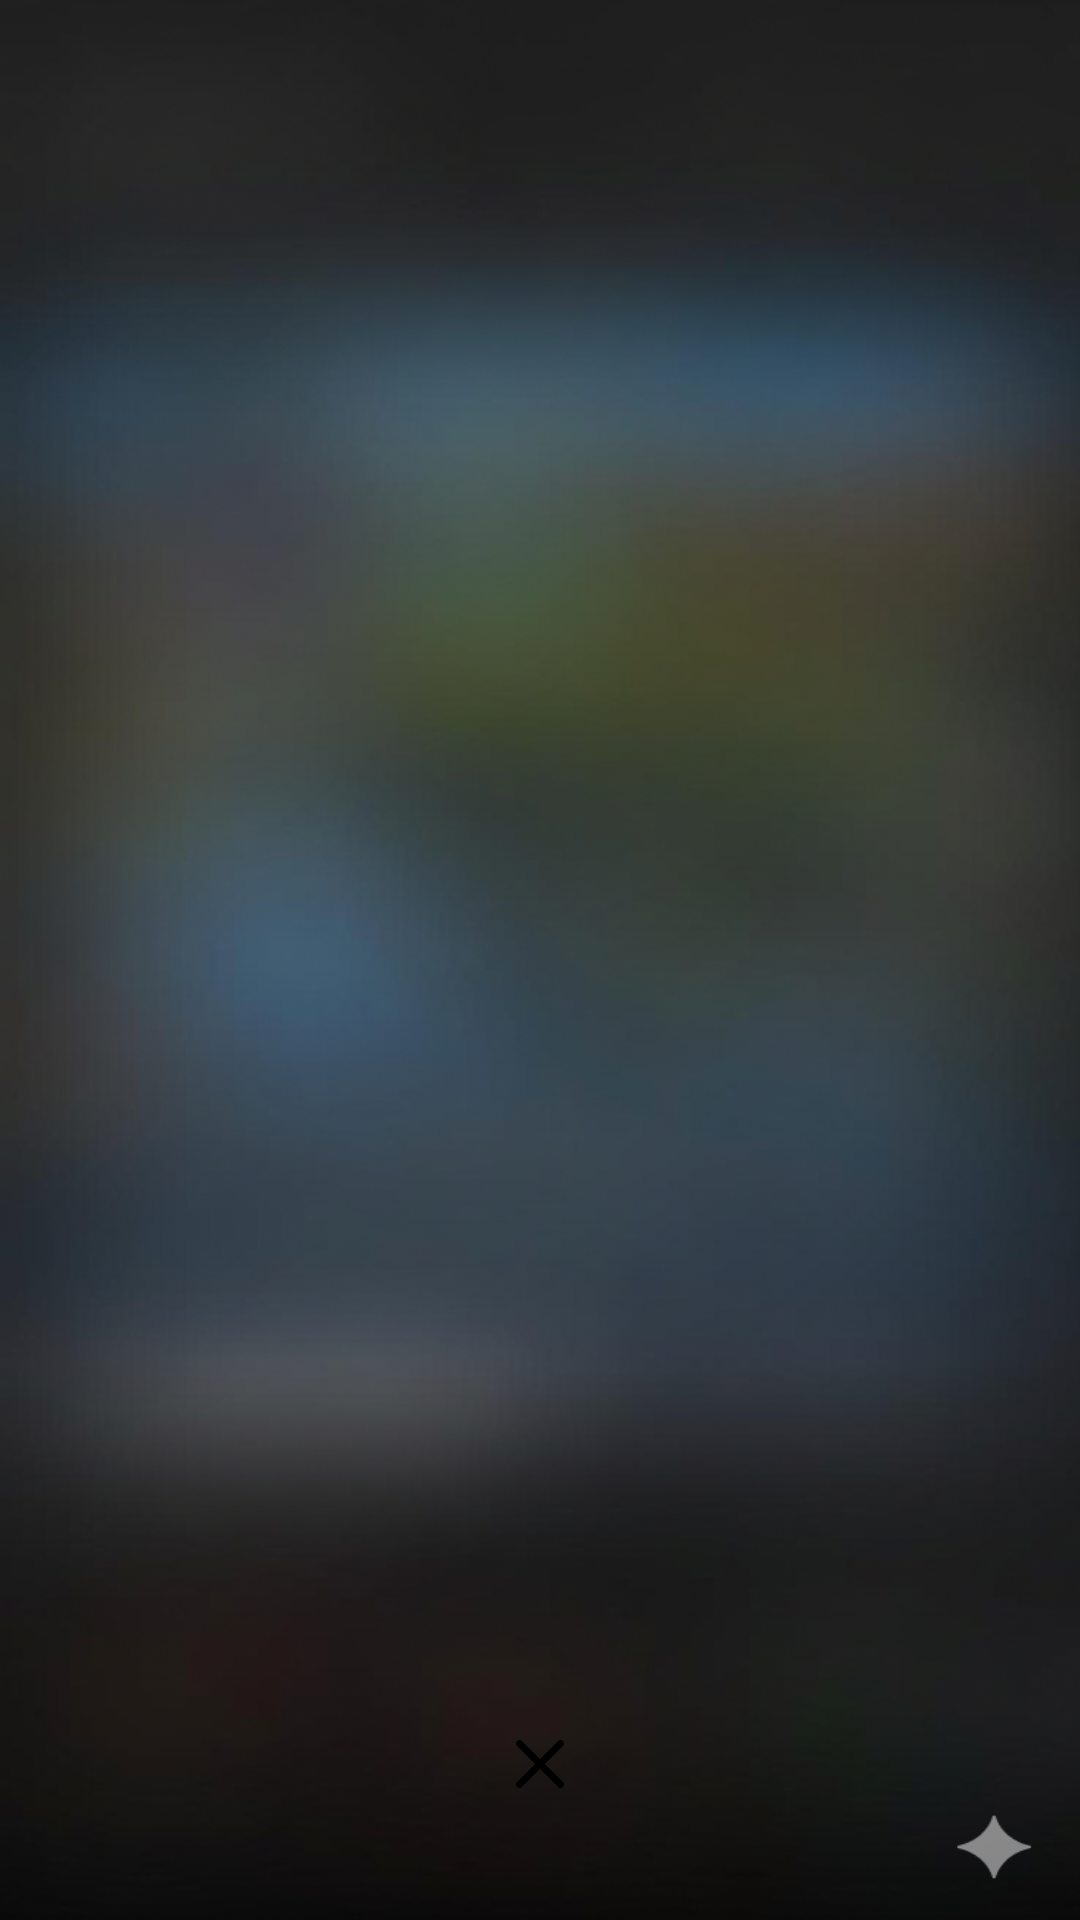

Locate icon controls on the screen. Image size 1080w x 1920h, boxes as region(x1, y1, x2, y2).
close: region(516, 1740, 564, 1788)
